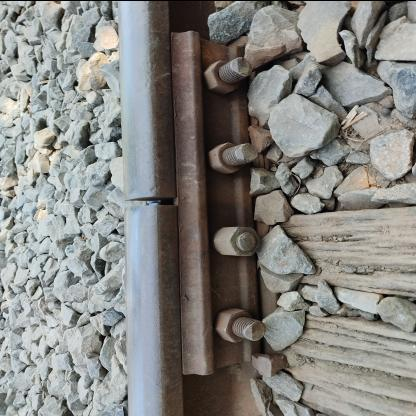Non Defective: (178, 6, 284, 382), (120, 155, 188, 245)
